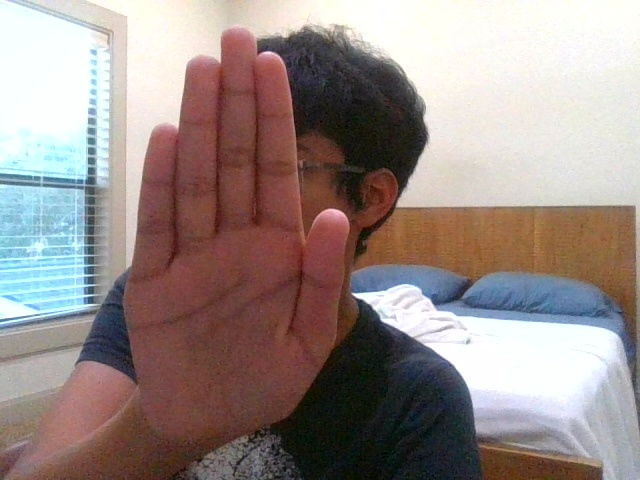hello: (121, 29, 350, 435)
